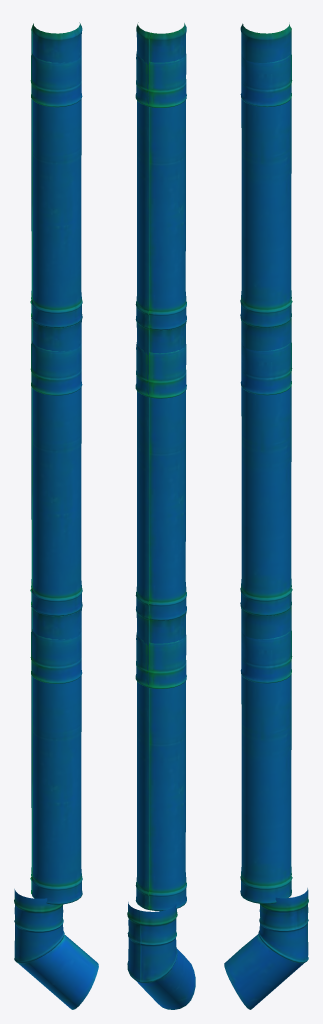
The model's file is downpipe.glb.
3 views of the same model, side by side, from view 1: azimuth 90°, elevation 25°; view 2: azimuth 150°, elevation 25°; view 3: azimuth 270°, elevation 25° (orthographic).
Parts seen in each view (by area): view 1: downpipe; view 2: downpipe; view 3: downpipe.
Part boxes in pixels (x1,y1,x2,y2): downpipe: (14,22,98,1009); downpipe: (127,22,195,1009); downpipe: (224,23,308,1009).
Bounding box in the file's own units: 0.1575 × 3.34 × 0.2613.
Materials: 1 (1 with a texture image).
